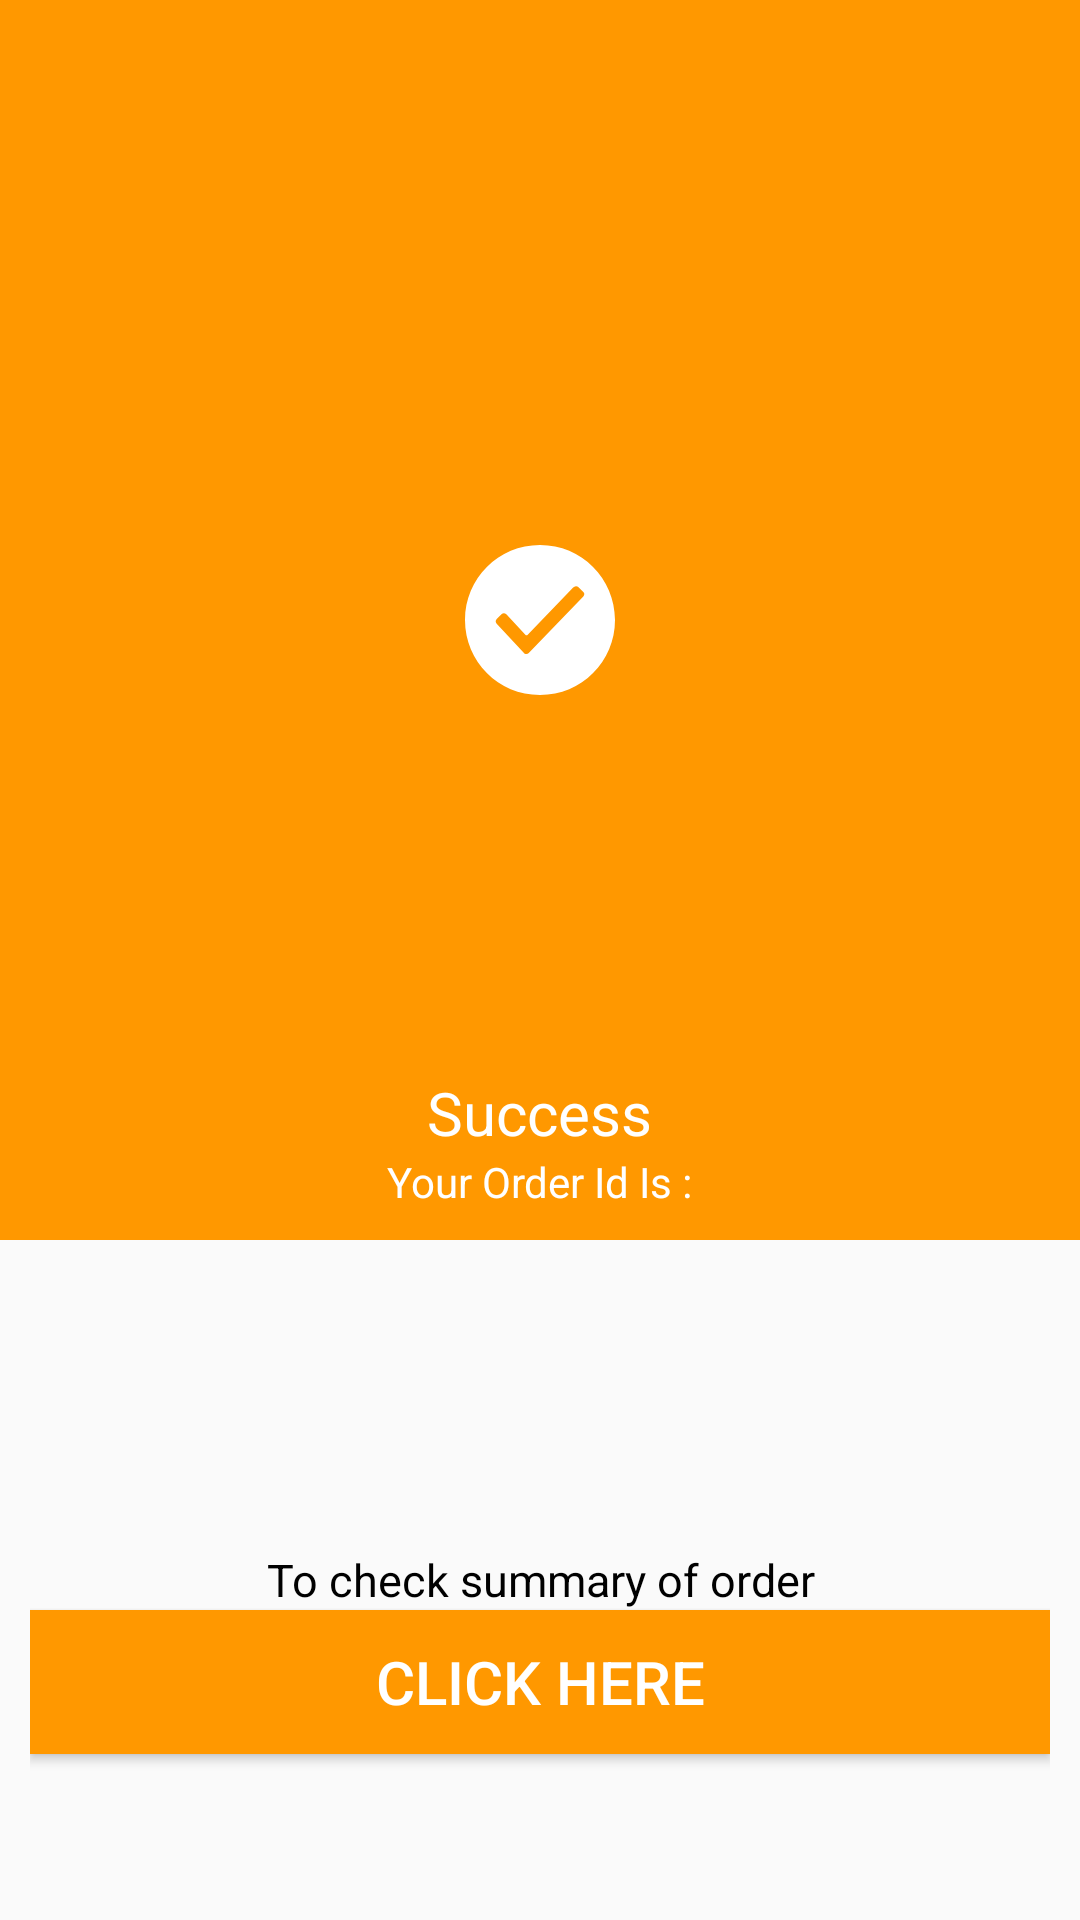

Icons on this 1080×1920 Android screen, each with its box as region(x1, y1, x2, y2):
checked: region(465, 545, 615, 695)
